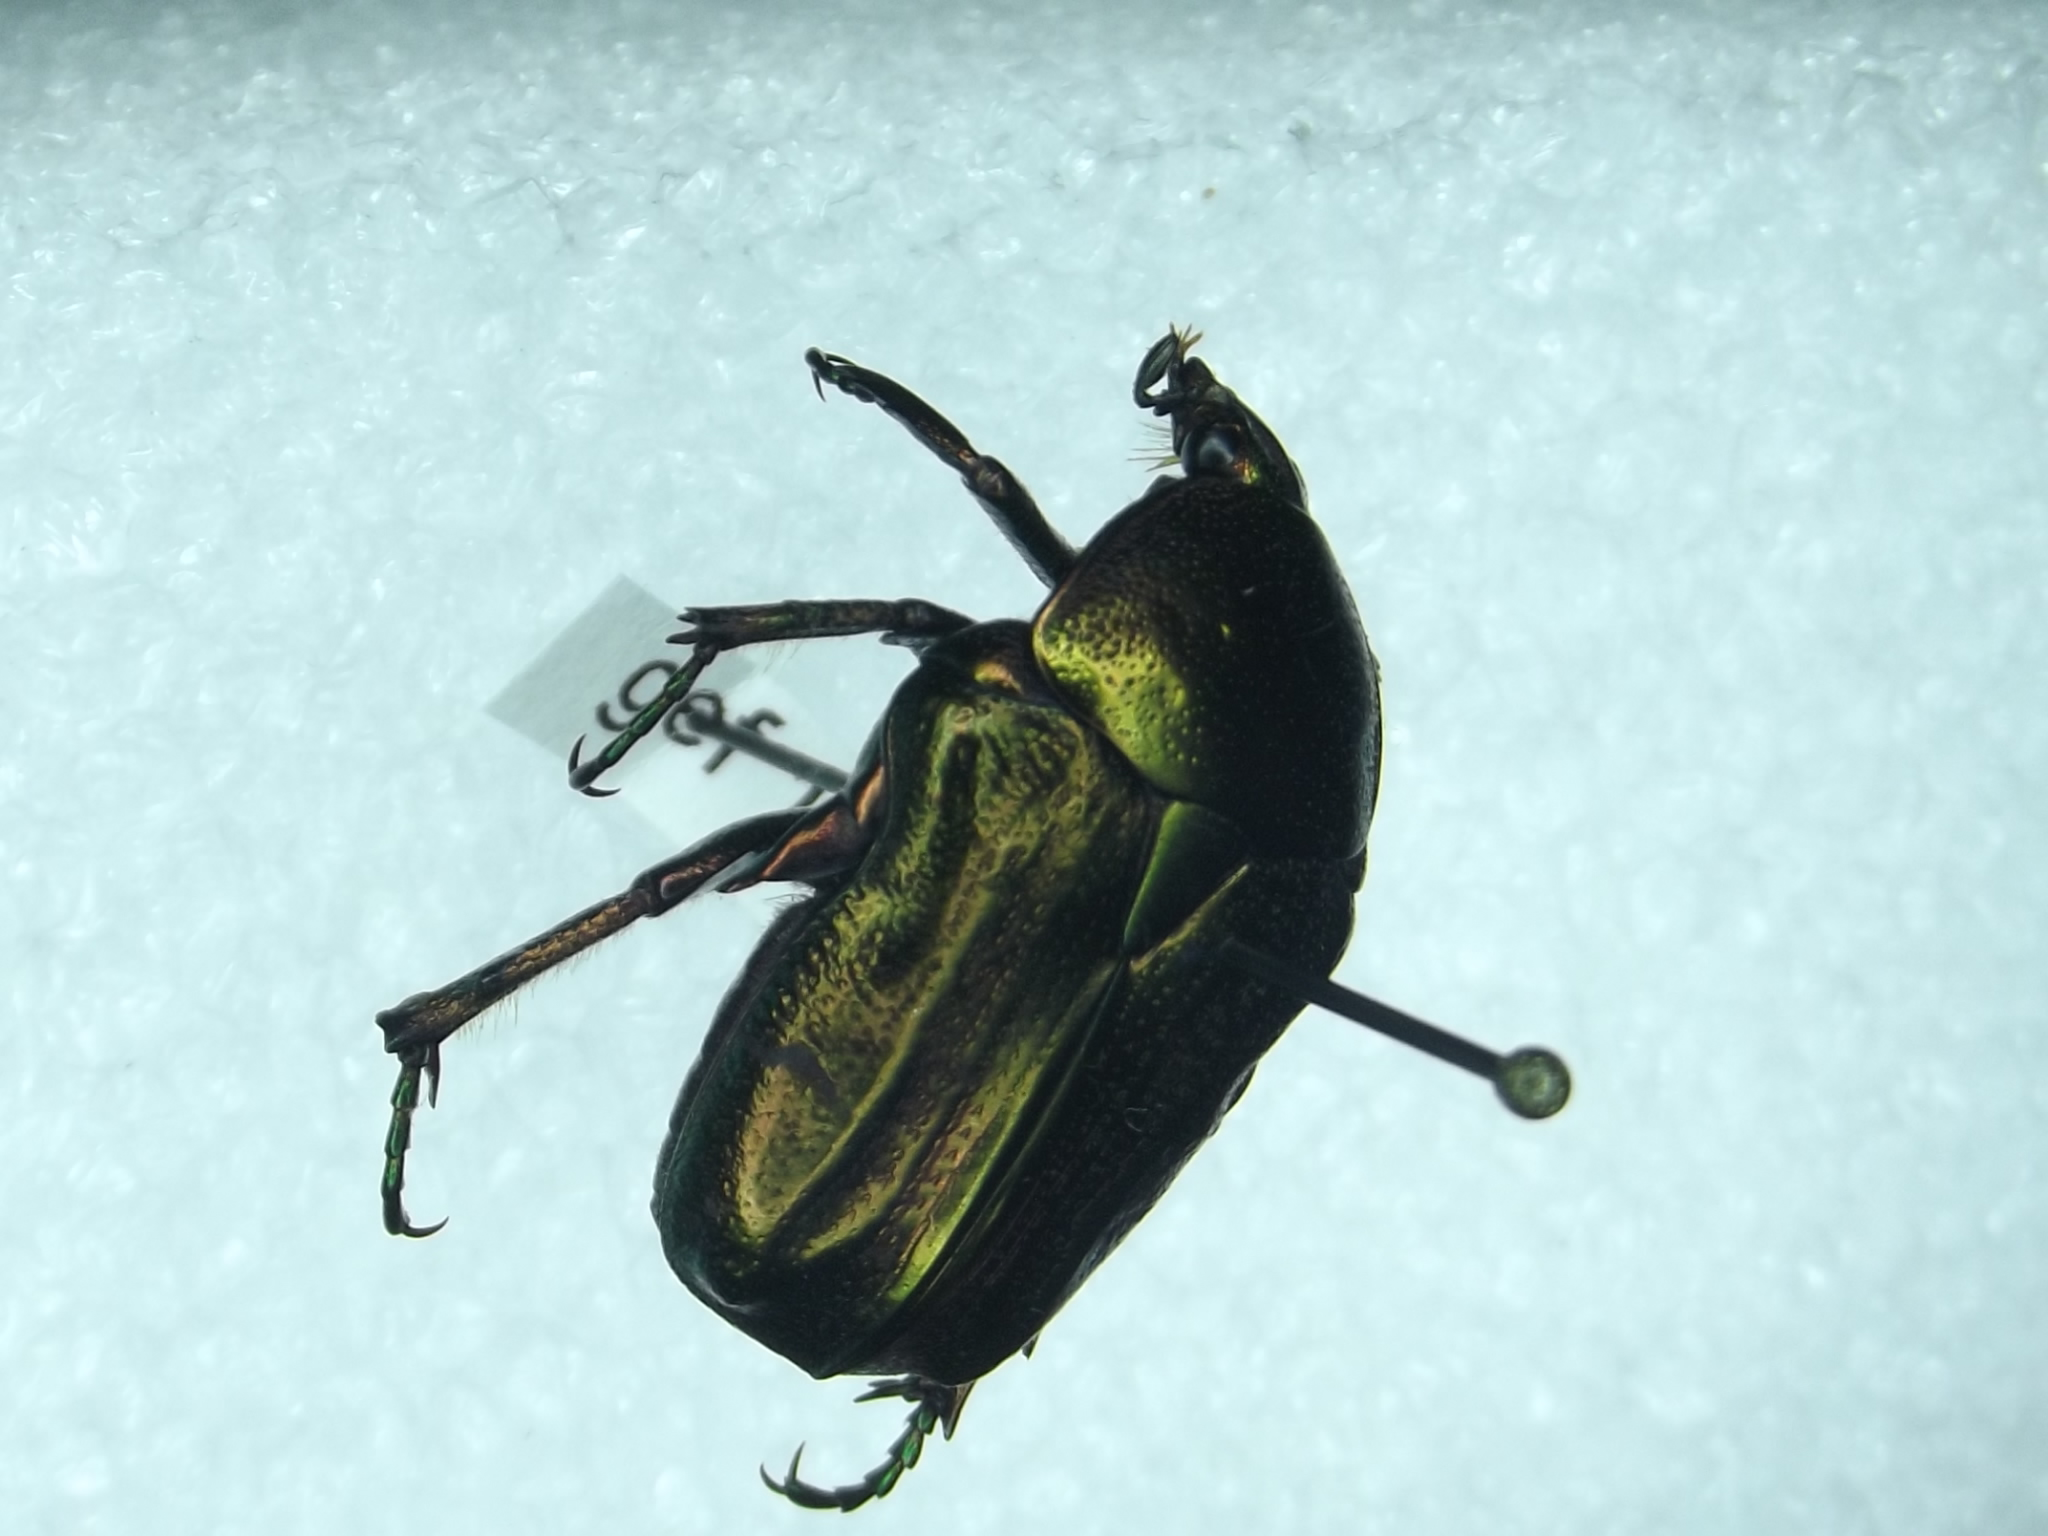Cetonia_aurata: (343, 253, 1408, 1526)
